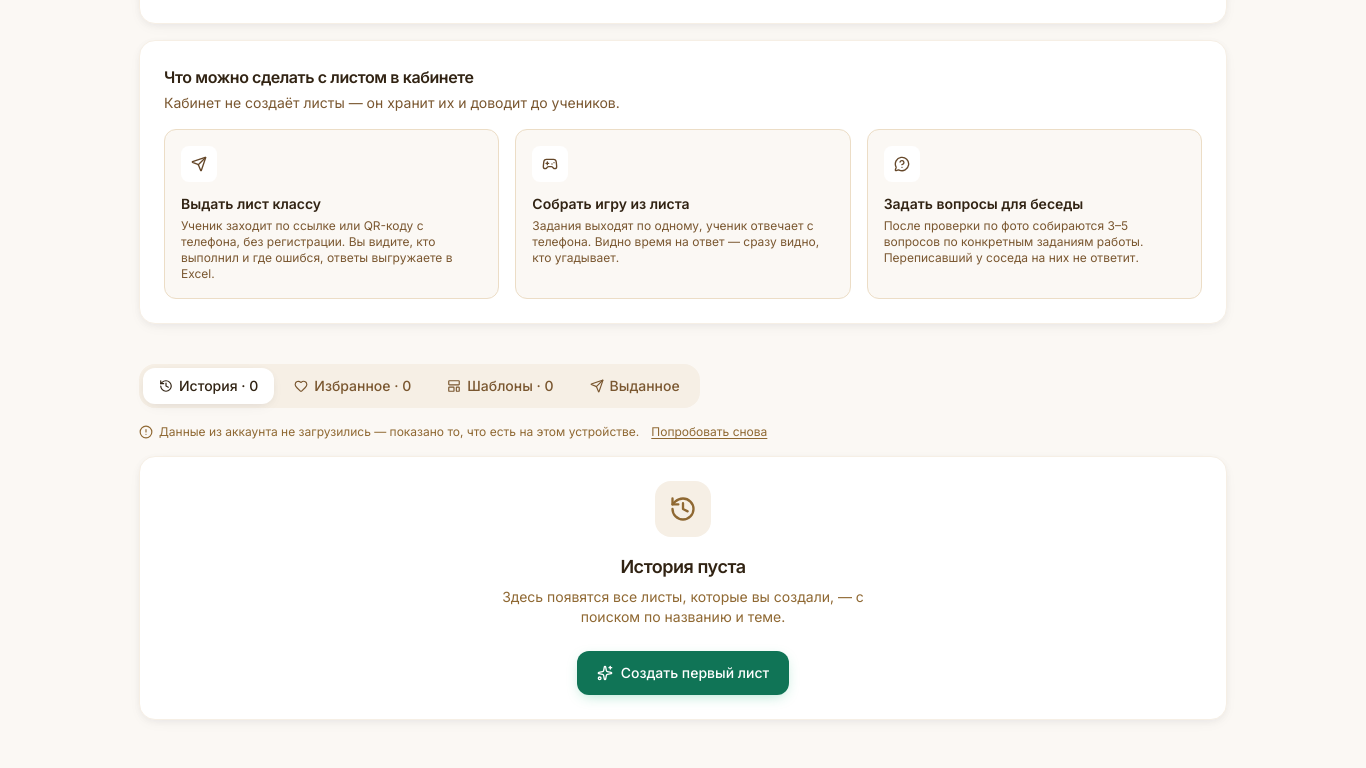
it: Остальные вкладки кабинета › пустые шаблоны объясняют, как их создать, и дают действие
The width and height of the screenshot is (1366, 768).
(page scrolled)
Expected: the heading "История пуста" is shown, [620, 556, 746, 577]
Click the tab "Шаблоны · 0" at (500, 386), box [431, 368, 570, 404]
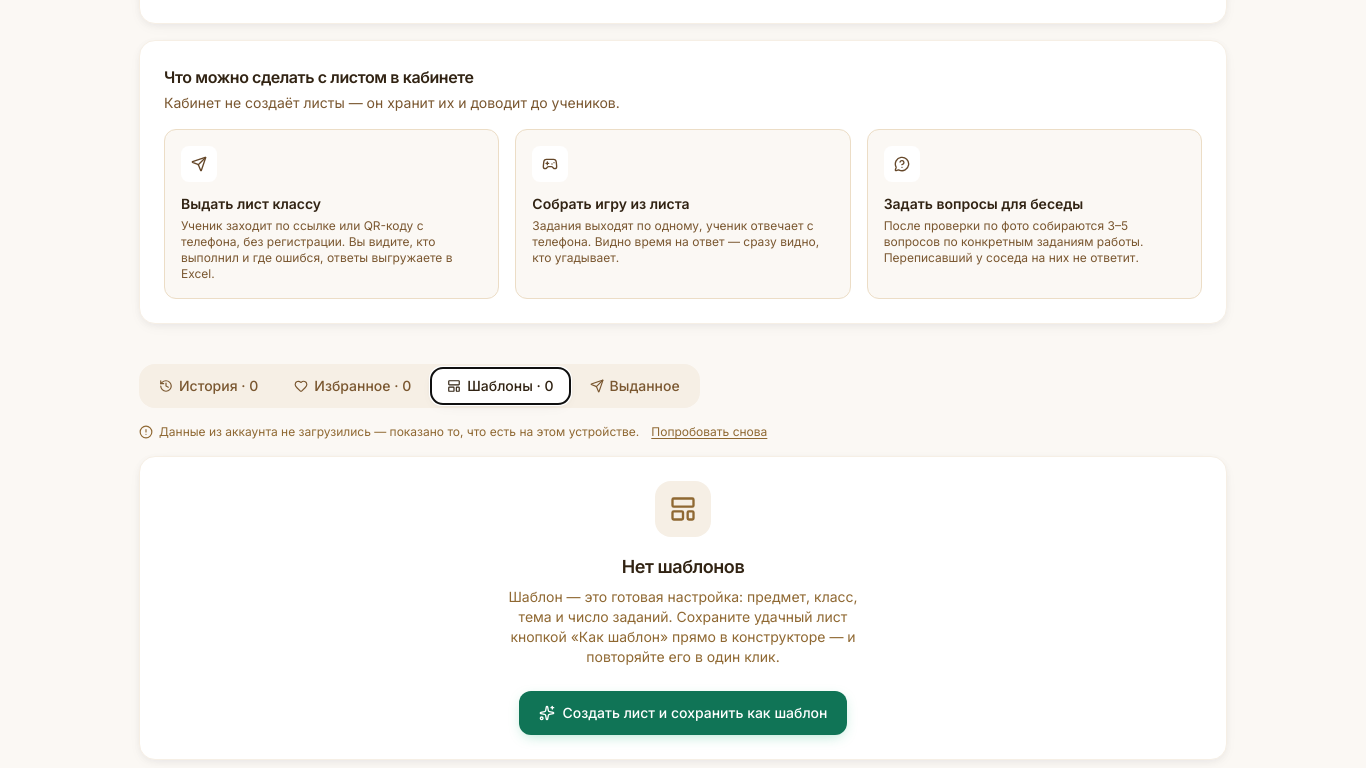
Expected: the heading "Нет шаблонов" is shown, [622, 556, 744, 577]
Expected: the link "Создать лист и сохранить как шаблон" is shown, [518, 691, 847, 735]
